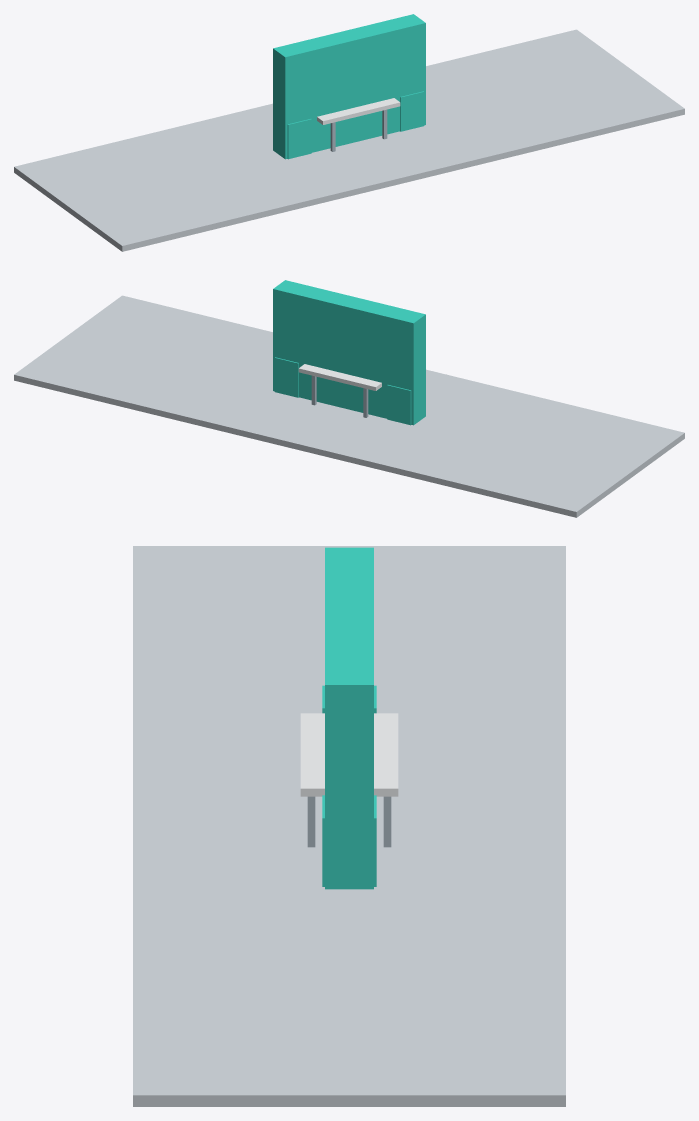
3 renders of one model, top to bottom at view 1: azimuth 30°, elevation 25°; view 2: azimuth 150°, elevation 25°; view 3: azimuth 270°, elevation 25°, orthographic. The views are drawn at different scales.
Parts seen in each view (by area): view 1: Exhibition Booth Concept; view 2: Exhibition Booth Concept; view 3: Exhibition Booth Concept.
Boxes of the visible parts, bbox=[...] form: Exhibition Booth Concept: bbox=[14, 14, 684, 251]; Exhibition Booth Concept: bbox=[14, 280, 684, 517]; Exhibition Booth Concept: bbox=[133, 546, 565, 1106].
Size of the model in its own units: 12 by 2.2 by 4.
